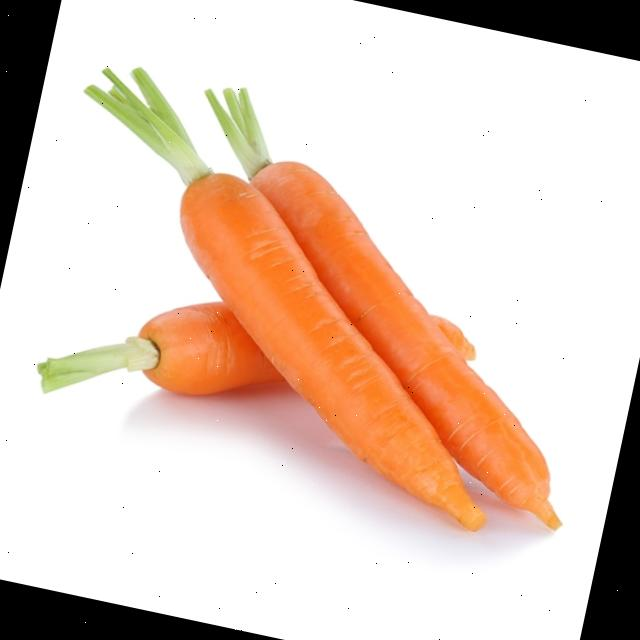carrot: (88, 69, 483, 528), (204, 87, 558, 526), (36, 300, 282, 393)
